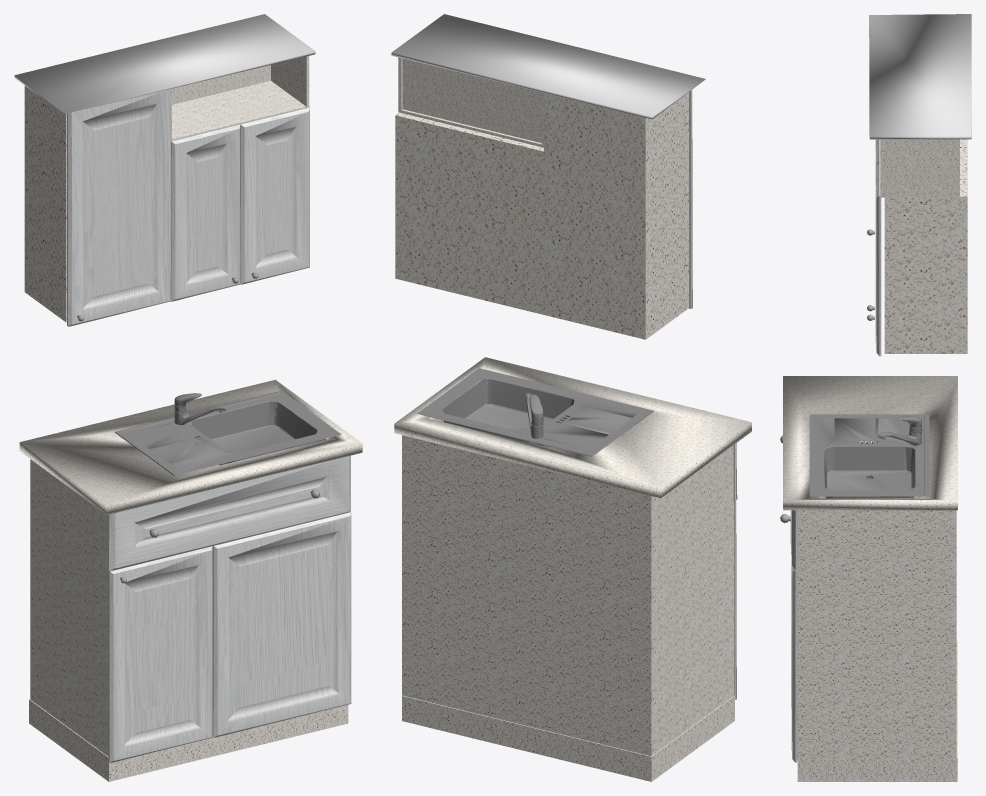
File: advanceKitchen.fbx
3 views of the same model, side by side, from view 1: azimuth 30°, elevation 25°; view 2: azimuth 150°, elevation 25°; view 3: azimuth 270°, elevation 25° (orthographic). The views are drawn at different scales.
Visible parts, largest first — view 1: Cylinder15991, Cylinder16000, Cylinder15992, Box03.001, ChamferBox01, Cylinder11, ChamferBox02, Cylinder16002, Cylinder16001, moyka, Куб, Box09 (+2 smaller); view 2: Box03.001, Куб, ChamferBox01, ChamferBox02, moyka, Box09, Box10, WRectangle01, Cylinder16000; view 3: Box03.001, ChamferBox01, Куб, ChamferBox02, moyka, WRectangle01, Box09, Cylinder15991, Cylinder16002, Cylinder11.
Boxes of the visible parts, <box> form: Cylinder15991: <box>212,512,351,737</box>; Cylinder16000: <box>67,89,170,326</box>; Cylinder15992: <box>108,546,212,763</box>; Box03.001: <box>30,404,329,756</box>; ChamferBox01: <box>19,379,362,514</box>; Cylinder11: <box>108,455,350,571</box>; ChamferBox02: <box>14,14,315,113</box>; Cylinder16002: <box>240,107,309,284</box>; Cylinder16001: <box>171,124,240,301</box>; moyka: <box>114,391,341,475</box>; Куб: <box>24,86,66,322</box>; Box09: <box>29,699,348,781</box>; Box03.001: <box>402,382,734,756</box>; Куб: <box>395,92,688,339</box>; ChamferBox01: <box>394,357,751,498</box>; ChamferBox02: <box>391,14,705,119</box>; moyka: <box>417,368,653,456</box>; Box09: <box>402,695,734,781</box>; Box10: <box>402,58,541,142</box>; WRectangle01: <box>398,57,543,147</box>; Cylinder16000: <box>689,90,692,308</box>; Box03.001: <box>797,441,956,759</box>; ChamferBox01: <box>783,376,957,510</box>; Куб: <box>884,139,967,353</box>; ChamferBox02: <box>869,14,971,139</box>; moyka: <box>809,414,929,498</box>; WRectangle01: <box>880,139,959,197</box>; Box09: <box>797,640,957,781</box>; Cylinder15991: <box>791,540,797,762</box>; Cylinder16002: <box>875,162,881,356</box>; Cylinder11: <box>790,510,798,570</box>.
Bounding box in the file's own units: 111 × 268 × 71.83.
